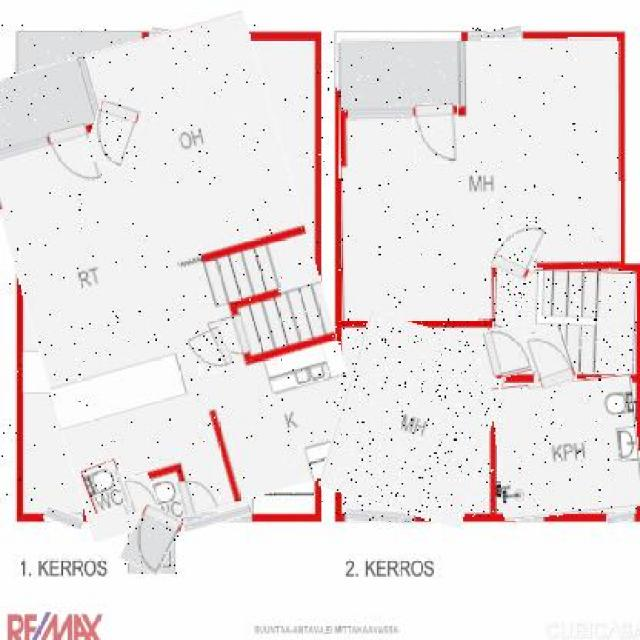door: (0, 25, 342, 526), (338, 38, 620, 320), (329, 318, 502, 520), (492, 377, 640, 517), (494, 269, 637, 374), (84, 462, 128, 512)
window: (124, 506, 178, 574), (88, 102, 137, 166), (495, 216, 543, 278), (414, 105, 458, 163), (530, 329, 572, 388), (486, 326, 529, 377), (191, 330, 231, 372), (117, 474, 157, 514)
zone: (29, 98, 91, 122), (350, 99, 412, 123), (183, 509, 252, 528), (454, 40, 474, 105), (469, 28, 522, 46), (150, 28, 202, 46), (346, 511, 414, 523), (45, 508, 83, 528), (142, 42, 149, 104), (606, 512, 632, 525), (515, 514, 543, 523)
